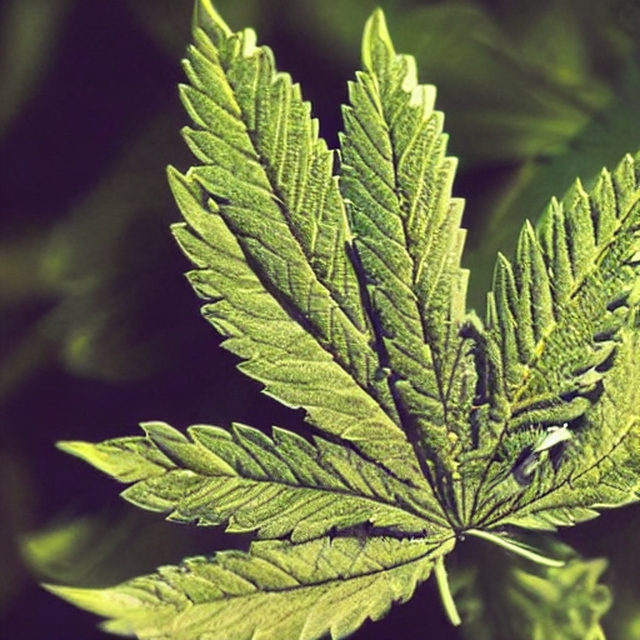Marijuana Leaf: (37, 0, 640, 640)
